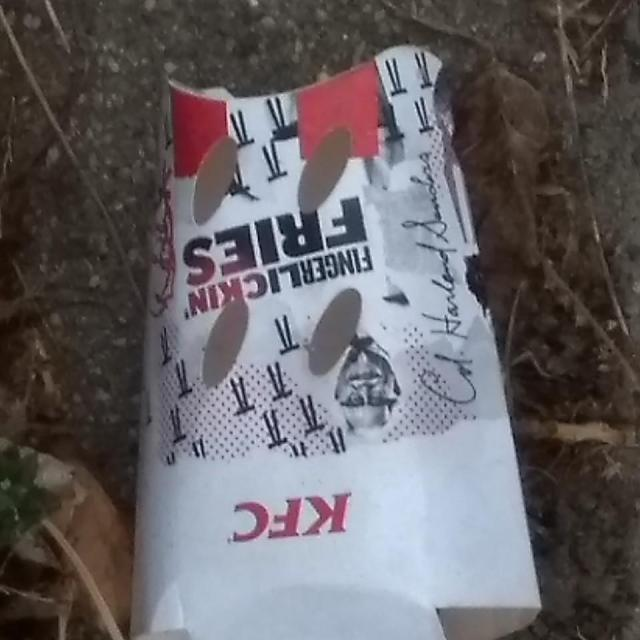Paper: (123, 41, 544, 640)
